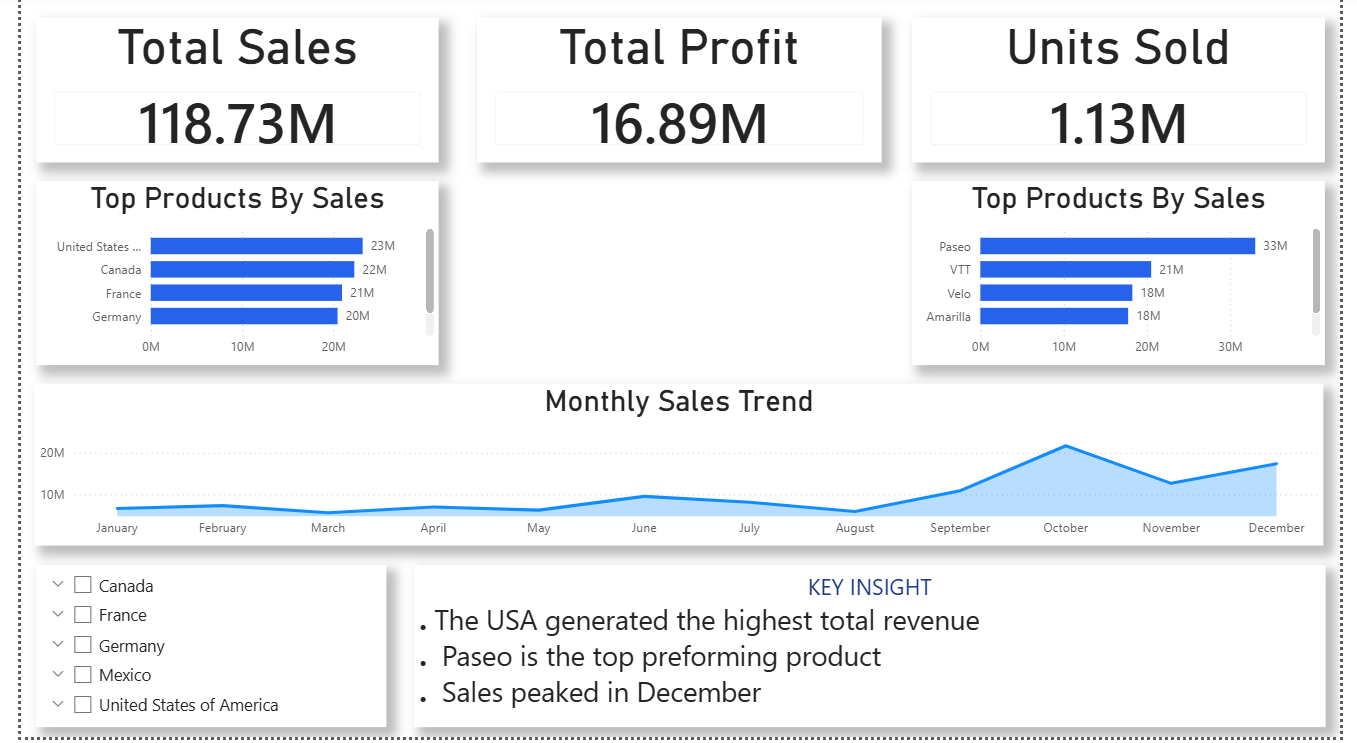

This screenshot's page, from the dashboard's own definition file:
{"tool":"powerbi","page":{"name":"Sales dashbourd-Executive Summary","canvas":[1280,720],"ordinal":3},"visuals":[{"type":"cardVisual","title":"Total Sales","fields":{"Data":["Sum(financials.Sales)"]},"box":[14.9,21.5,390.9,140.8],"z":0},{"type":"cardVisual","title":"Total Profit","fields":{"Data":["Sum(financials.Profit)"]},"box":[442.3,21.5,392.6,140.8],"z":1000},{"type":"cardVisual","title":"Units Sold","fields":{"Data":["Sum(financials.Units Sold)"]},"box":[864.7,21.5,400.9,140.8],"z":2000},{"type":"barChart","title":"Top Products By Sales ","fields":{"Category":["financials.Product"],"Y":["Sum(financials.Sales)"]},"box":[864.7,180.6,400.9,178.9],"z":3000},{"type":"barChart","title":"Top Products By Sales ","fields":{"Y":["Sum(financials.Sales)"],"Category":["financials.Country"]},"box":[14.9,180.6,390.9,178.9],"z":4000},{"type":"lineChart","title":"Monthly Sales Trend","fields":{"Category":["financials.Month Name"],"Y":["Sum(financials.Sales)"]},"box":[13.1,377.6,1250.8,157.4],"z":5000},{"type":"slicer","fields":{"Values":["financials.Country","financials.Year"]},"box":[14.6,552.5,339.7,157.4],"z":6000},{"type":"textbox","box":[381,553.3,884.6,157.4],"z":7000}]}

Visuals, with their boxes in screenshot pixels (x1, y1, x2, y2), scaled from the page's 1280x720 canvas onto the 1357x743 screenshot:
"Total Sales" cardVisual: region(16, 22, 430, 167)
"Total Profit" cardVisual: region(469, 22, 885, 167)
"Units Sold" cardVisual: region(917, 22, 1342, 167)
"Top Products By Sales " barChart: region(917, 186, 1342, 371)
"Top Products By Sales " barChart: region(16, 186, 430, 371)
"Monthly Sales Trend" lineChart: region(14, 390, 1340, 552)
slicer - financials.Country x financials.Year: region(15, 570, 376, 733)
textbox: region(404, 571, 1342, 733)
